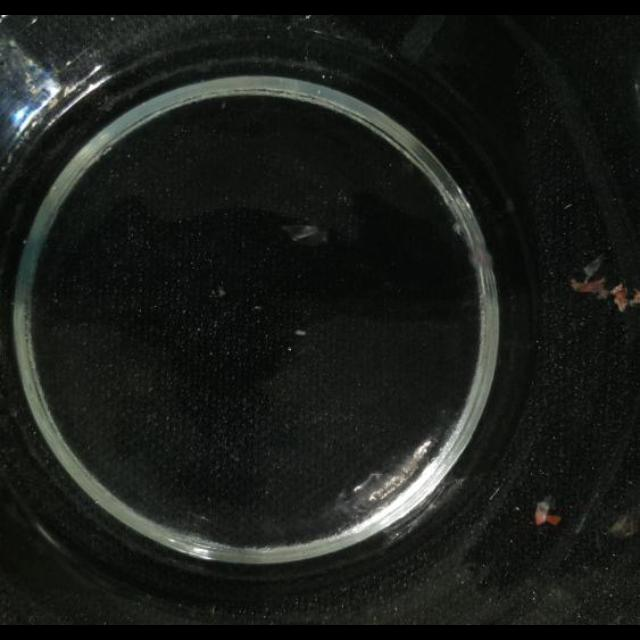Film: (274, 218, 332, 250)
Fragment: (576, 246, 640, 320), (534, 497, 562, 527)
microbeads: (286, 346, 292, 352)
